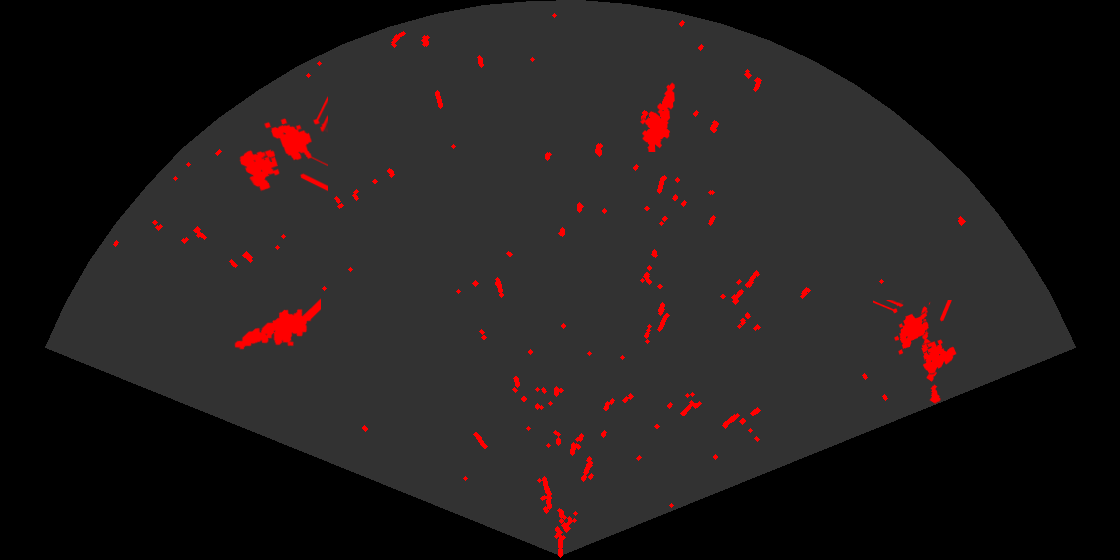cage: (238, 95, 328, 193), (873, 300, 958, 375)
chain: (918, 305, 942, 405)
frogman: (233, 297, 321, 351), (639, 81, 676, 152)
